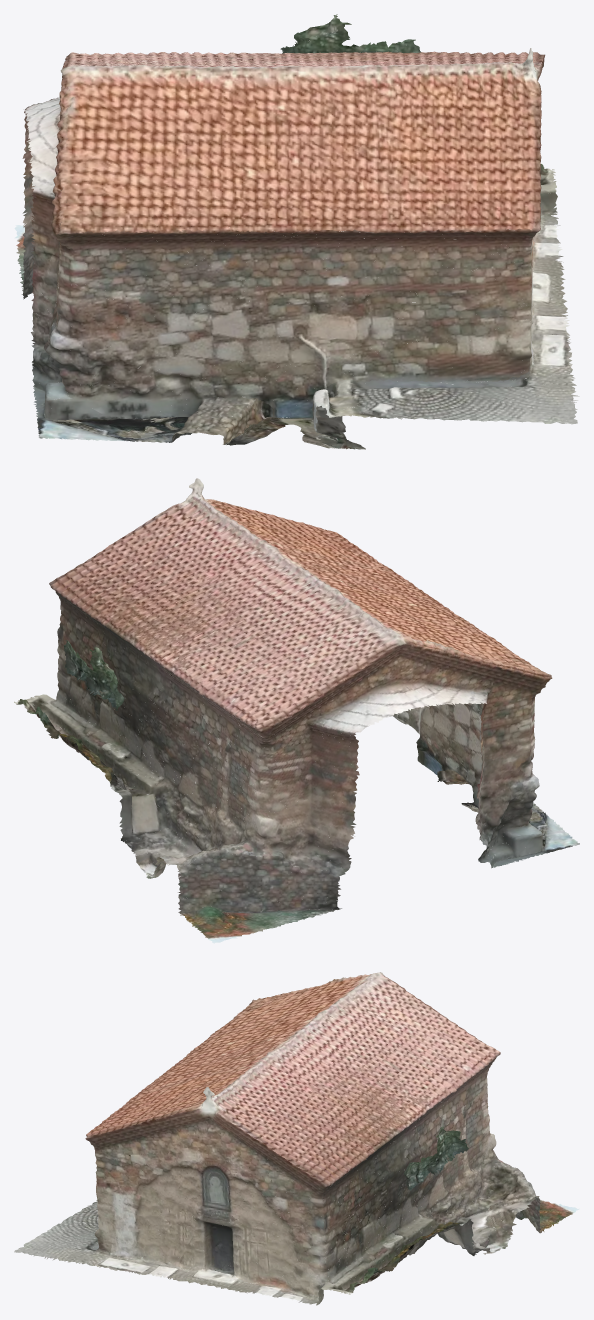
File: bojidarkn.glb
The picture shows the model from 3 angles, top to bottom: view 1: azimuth 30°, elevation 25°; view 2: azimuth 150°, elevation 25°; view 3: azimuth 270°, elevation 25°; orthographic projection. The views are drawn at different scales.
Parts seen in each view (by area): view 1: Object_2; view 2: Object_2; view 3: Object_2.
Boxes of the visible parts, x1,y1,x2,y2 form: Object_2: [14, 14, 579, 449]; Object_2: [14, 478, 579, 943]; Object_2: [14, 972, 579, 1305].
Bounding box in the file's own units: 27.01 × 12.91 × 30.09.
Materials: 1 (1 with a texture image).
